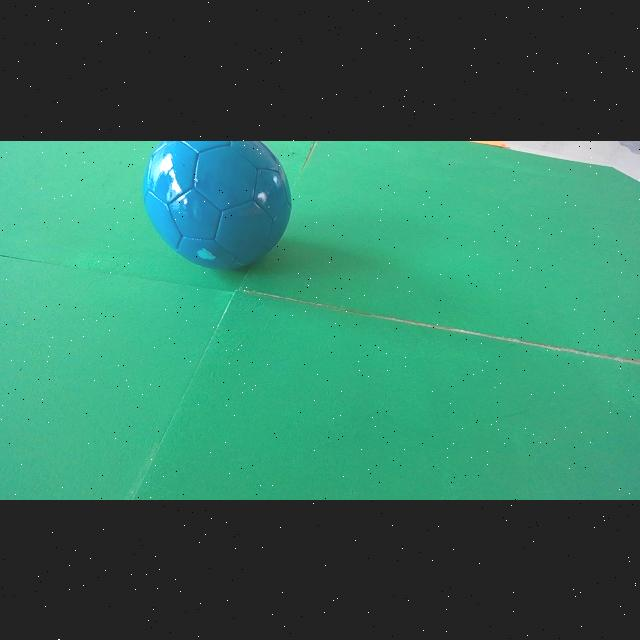B: (143, 140, 292, 268)
